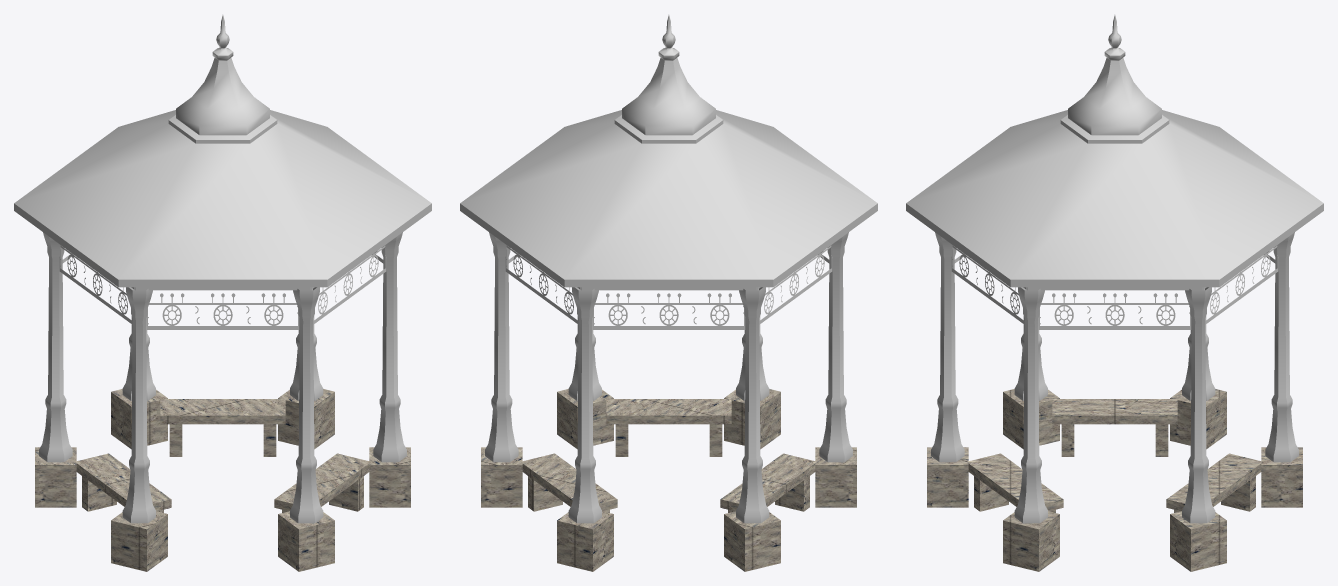
File: SM_Morin_Gazebo_LOD1.fbx
The picture shows the model from 3 angles, left to right: view 1: azimuth 30°, elevation 25°; view 2: azimuth 150°, elevation 25°; view 3: azimuth 270°, elevation 25°; orthographic projection.
Parts seen in each view (by area): view 1: SM_Morin_Gazebo_LOD1; view 2: SM_Morin_Gazebo_LOD1; view 3: SM_Morin_Gazebo_LOD1.
Boxes of the visible parts, bbox=[...] form: SM_Morin_Gazebo_LOD1: bbox=[14, 15, 431, 571]; SM_Morin_Gazebo_LOD1: bbox=[460, 15, 877, 571]; SM_Morin_Gazebo_LOD1: bbox=[906, 15, 1323, 571].
Size of the model in its own units: 346 by 400 by 512.
Materials: 3 (1 with a texture image).
